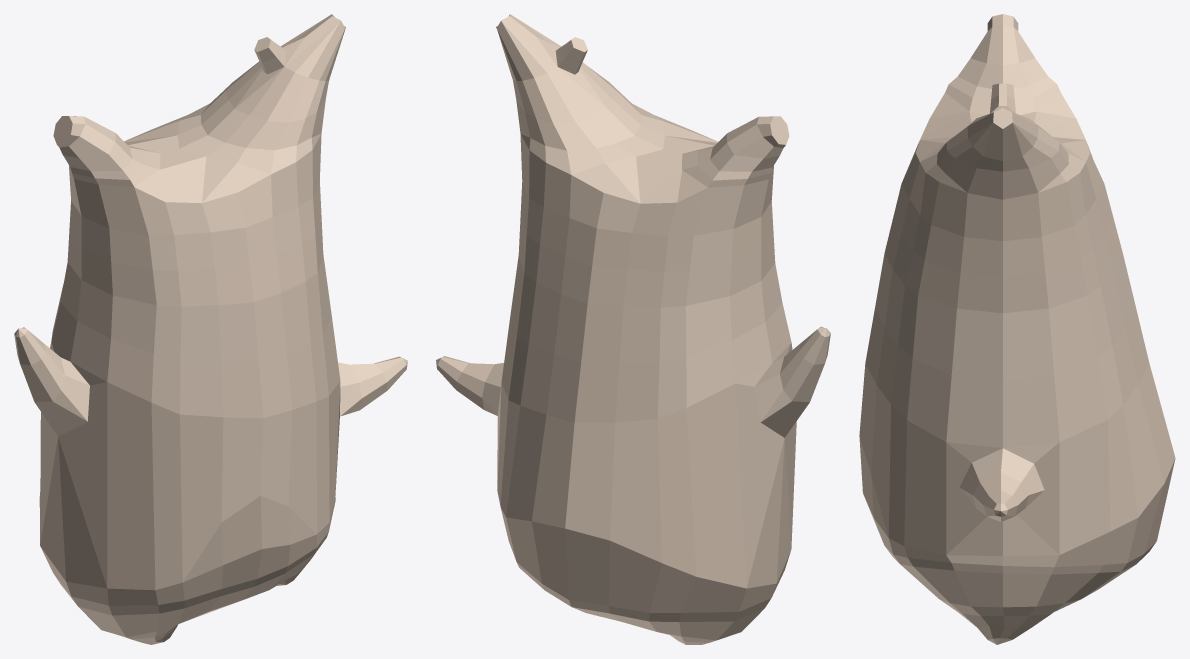
File: frame_0131.obj
3 views of the same model, side by side, from view 1: azimuth 30°, elevation 25°; view 2: azimuth 150°, elevation 25°; view 3: azimuth 270°, elevation 25° (orthographic).
Parts seen in each view (by area): view 1: korok; view 2: korok; view 3: korok.
Boxes of the visible parts, x1,y1,x2,y2 form: korok: [14, 14, 407, 644]; korok: [436, 14, 830, 644]; korok: [859, 14, 1175, 644].
Bounding box in the file's own units: 1.55 × 2.19 × 1.07.
